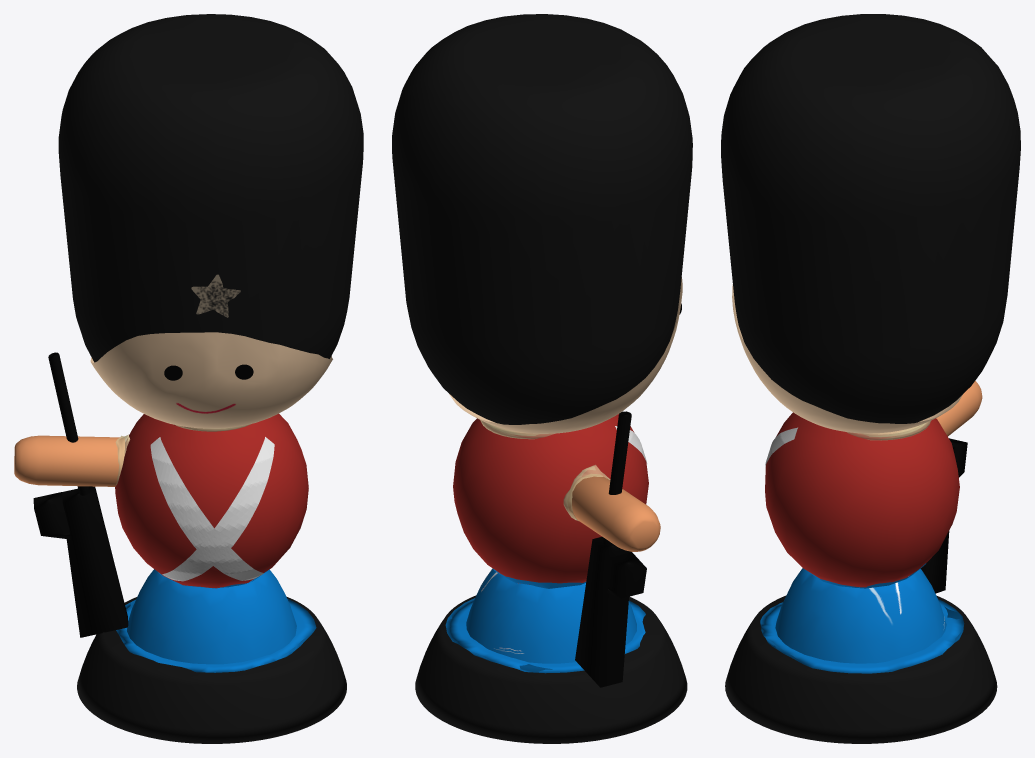
The model's file is soldadito.glb.
The picture shows the model from 3 angles, left to right: view 1: azimuth 30°, elevation 25°; view 2: azimuth 150°, elevation 25°; view 3: azimuth 270°, elevation 25°; orthographic projection.
Visible parts, largest first — view 1: cabolo, black base new.001, body.001, face 2, black base new.003, escopeta, arm, cross left, cross right, pintura blava sobrant, Star; view 2: cabolo, black base new.001, body.001, black base new.003, escopeta, arm, face 2, pintura blava sobrant, Object; view 3: cabolo, body.001, black base new.001, black base new.003, pintura blava sobrant, face 2, escopeta, arm, pegamento.001.
Part boxes in pixels (x1,y1,x2,y2): cabolo: [58, 14, 363, 362]; black base new.001: [77, 597, 346, 743]; body.001: [115, 413, 308, 588]; face 2: [90, 332, 332, 428]; black base new.003: [127, 569, 296, 664]; escopeta: [33, 352, 128, 637]; arm: [14, 435, 124, 486]; cross left: [150, 437, 263, 580]; cross right: [162, 437, 274, 581]; pintura blava sobrant: [116, 599, 316, 672]; Star: [191, 274, 240, 317]; cabolo: [392, 14, 692, 424]; black base new.001: [415, 595, 687, 743]; body.001: [453, 414, 648, 584]; black base new.003: [466, 568, 636, 663]; escopeta: [575, 411, 646, 687]; arm: [567, 474, 660, 551]; face 2: [449, 277, 682, 433]; pintura blava sobrant: [445, 598, 645, 673]; Object: [563, 465, 610, 521]; cabolo: [721, 14, 1020, 423]; body.001: [765, 412, 959, 587]; black base new.001: [725, 595, 997, 743]; black base new.003: [775, 568, 946, 663]; pintura blava sobrant: [760, 599, 964, 673]; face 2: [732, 284, 962, 433]; escopeta: [920, 438, 967, 593]; arm: [936, 381, 982, 436]; pegamento.001: [847, 421, 930, 440].
Size of the model in its own units: 0.1274 by 0.2681 by 0.1145.
Materials: 11 (3 with a texture image).
